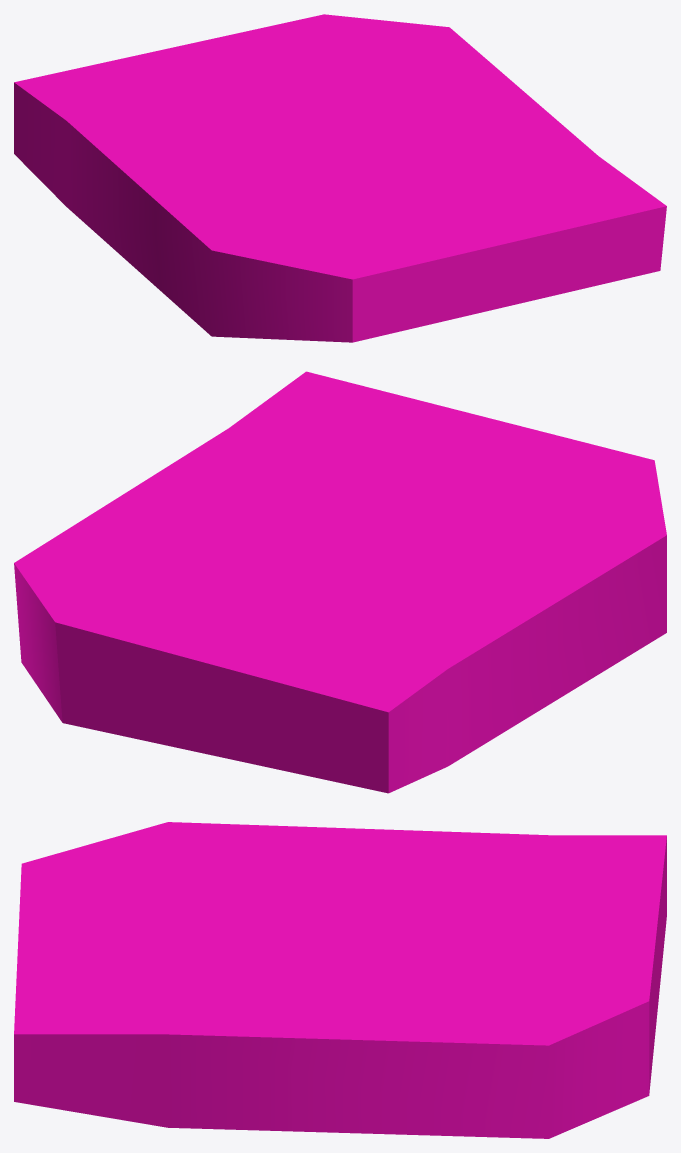
The model's file is study_magazine_pile_1_meshCollider.fbx.
3 renders of one model, top to bottom at view 1: azimuth 30°, elevation 25°; view 2: azimuth 150°, elevation 25°; view 3: azimuth 270°, elevation 25°, orthographic. The views are drawn at different scales.
Visible parts, largest first — view 1: study_magazine_pile_1_meshCollider; view 2: study_magazine_pile_1_meshCollider; view 3: study_magazine_pile_1_meshCollider.
Part boxes in pixels (bbox=[...]): study_magazine_pile_1_meshCollider: bbox=[14, 14, 666, 342]; study_magazine_pile_1_meshCollider: bbox=[14, 371, 666, 793]; study_magazine_pile_1_meshCollider: bbox=[14, 822, 666, 1138].
Size of the model in its own units: 20.49 by 4.2 by 25.29.
